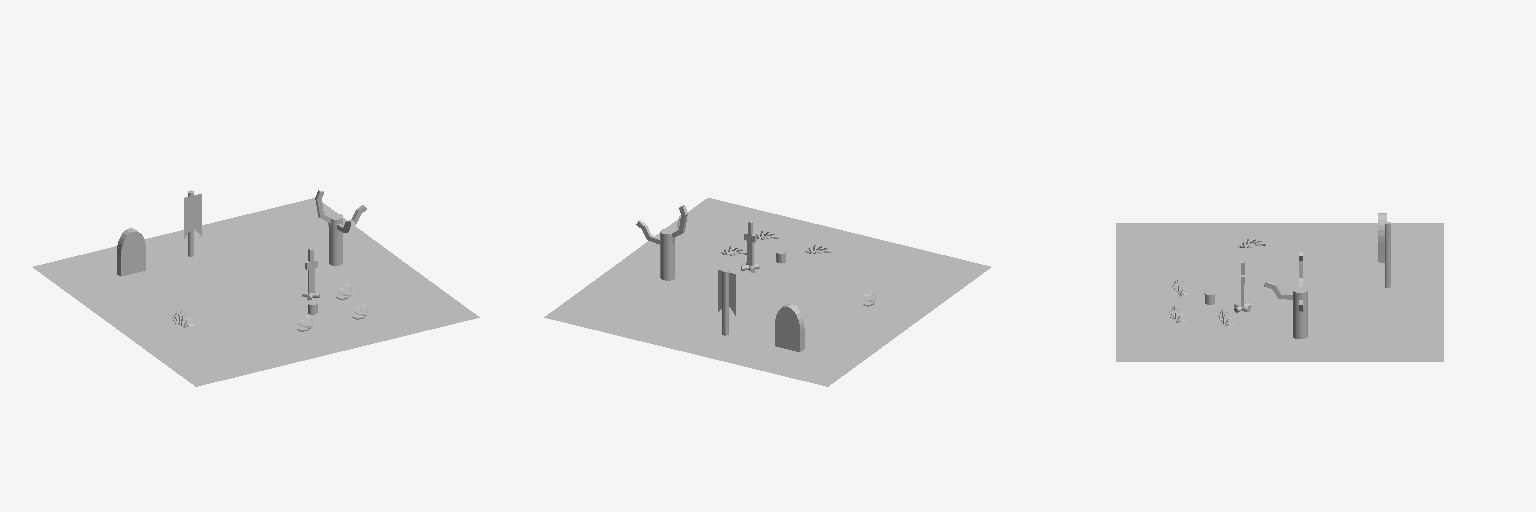
File: DioramaMedieval.obj
3 renders of one model, left to right at view 1: azimuth 30°, elevation 25°; view 2: azimuth 150°, elevation 25°; view 3: azimuth 270°, elevation 25°, orthographic.
Visible parts, largest first — view 1: Plane_Plane, Tumba_Cube.001, Cylinder.001_Cylinder.001, Tierra_Plane.001, Bandera_Plane.002; view 2: Plane_Plane, Tumba_Cube.001, Cylinder.001_Cylinder.001, Tierra_Plane.001; view 3: Plane_Plane, Cylinder.001_Cylinder.001, Tierra_Plane.001.
Part boxes in pixels (bbox=[...]): Plane_Plane: bbox=[33, 198, 479, 386]; Tumba_Cube.001: bbox=[117, 228, 145, 276]; Cylinder.001_Cylinder.001: bbox=[315, 190, 366, 265]; Tierra_Plane.001: bbox=[120, 270, 180, 301]; Bandera_Plane.002: bbox=[184, 194, 201, 238]; Plane_Plane: bbox=[544, 198, 990, 386]; Tumba_Cube.001: bbox=[775, 304, 804, 351]; Cylinder.001_Cylinder.001: bbox=[636, 205, 687, 280]; Tierra_Plane.001: bbox=[804, 317, 839, 348]; Plane_Plane: bbox=[1116, 223, 1443, 361]; Cylinder.001_Cylinder.001: bbox=[1264, 252, 1307, 338]; Tierra_Plane.001: bbox=[1309, 250, 1379, 262].
Bounding box in the file's own units: 14 × 3.74 × 14.